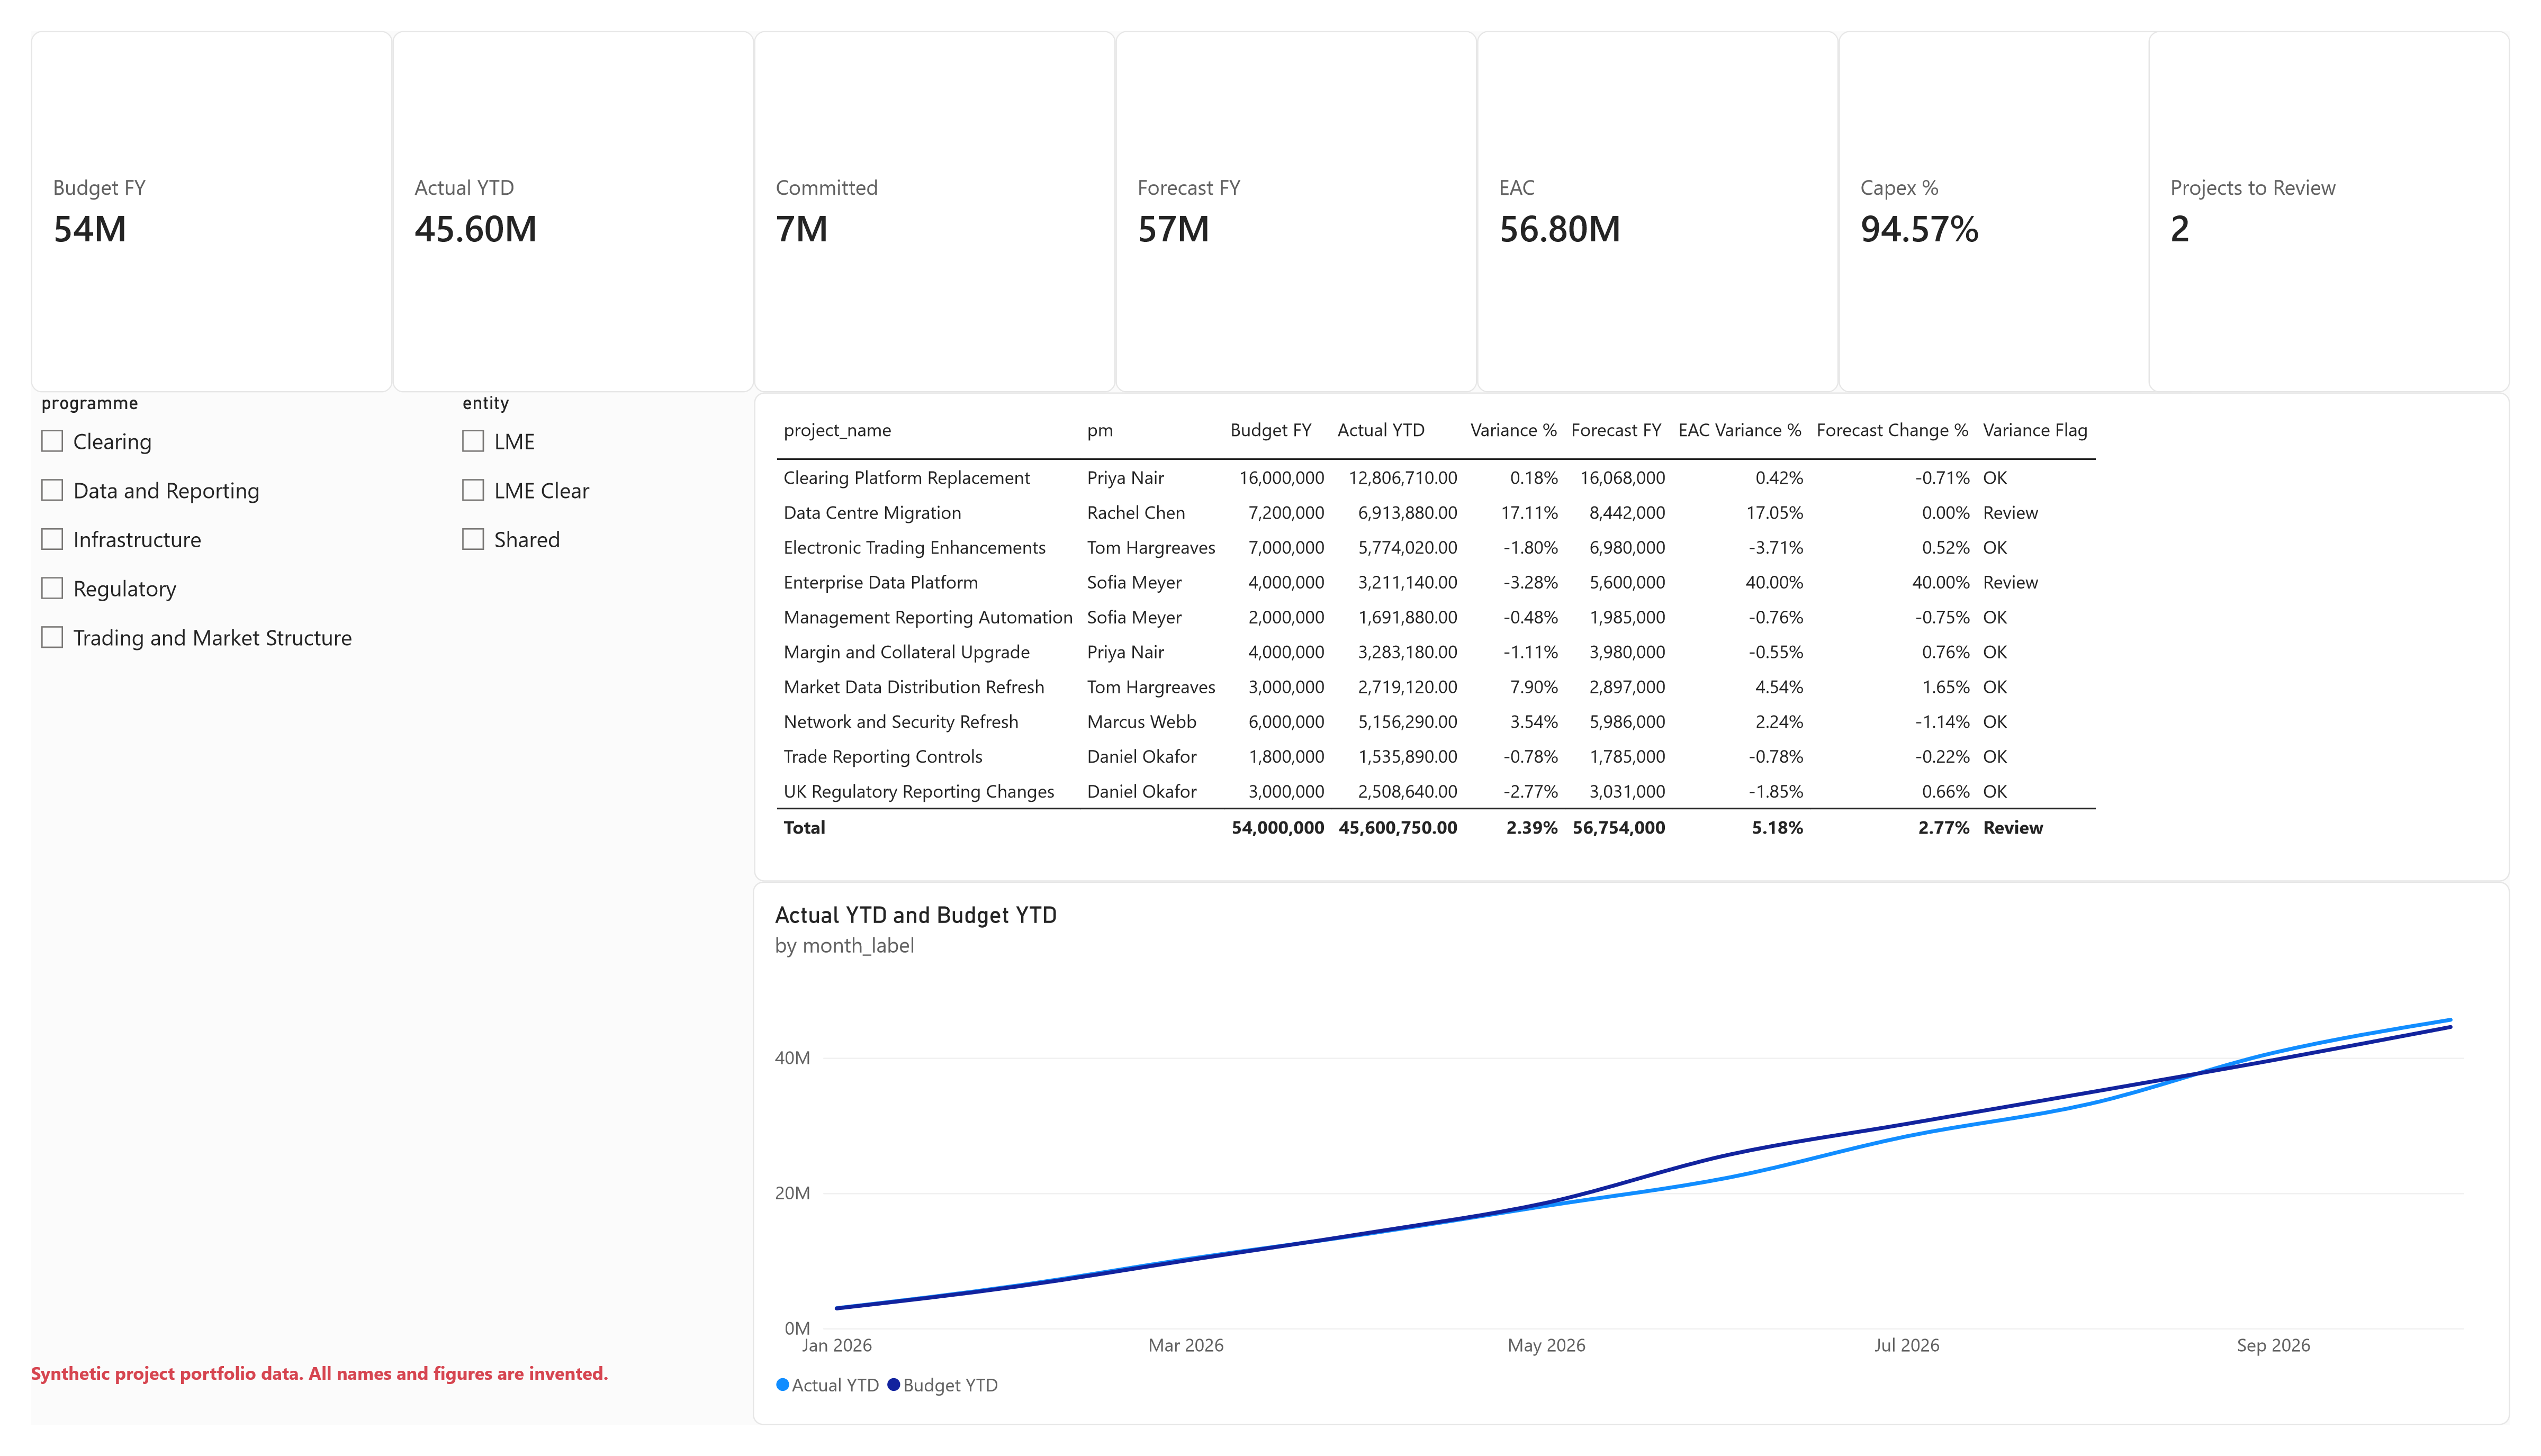

The page's visual inventory and layout, read from the dashboard file:
{"tool":"powerbi","page":{"name":"1 CFO","canvas":[1920,1080],"ordinal":1},"visuals":[{"type":"cardVisual","fields":{"Data":["_Measures.Budget FY"]},"box":[0,0,280,280],"z":0},{"type":"cardVisual","fields":{"Data":["_Measures.Actual YTD"]},"box":[280,0,280,280],"z":1},{"type":"cardVisual","fields":{"Data":["_Measures.Committed"]},"box":[560,0,280,280],"z":2},{"type":"cardVisual","fields":{"Data":["_Measures.Forecast FY"]},"box":[840,0,280,280],"z":3},{"type":"cardVisual","fields":{"Data":["_Measures.EAC"]},"box":[1120,0,280,280],"z":4},{"type":"cardVisual","fields":{"Data":["_Measures.Capex %"]},"box":[1400,0,280,280],"z":5},{"type":"cardVisual","fields":{"Data":["_Measures.Projects to Review"]},"box":[1640,0,280,280],"z":6},{"type":"tableEx","fields":{"Values":["dim_project.project_name","dim_project.pm","_Measures.Budget FY","_Measures.Actual YTD","_Measures.Variance %","_Measures.Forecast FY","_Measures.EAC Variance %","_Measures.Forecast Change %","_Measures.Variance Flag"]},"box":[0,280,1077.5,378.8],"z":7},{"type":"lineChart","fields":{"Category":["dim_date.month_label"],"Y":["_Measures.Actual YTD","_Measures.Budget YTD"]},"box":[0,658.5,1077.5,421.2],"z":8},{"type":"slicer","fields":{"Values":["dim_project.programme"]},"box":[1120,290,280,379],"z":9},{"type":"slicer","fields":{"Values":["dim_project.entity"]},"box":[1423.8,280,280,379],"z":10},{"type":"textbox","box":[1119.9,1043.5,597.7,36.8],"z":11}]}

Visuals, with their boxes in screenshot pixels (x1, y1, x2, y2), scaled from the page's 1920x1080 canvas onto the 2541x1456 screenshot:
cardVisual - _Measures.Budget FY: bbox=[0, 0, 371, 377]
cardVisual - _Measures.Actual YTD: bbox=[371, 0, 741, 377]
cardVisual - _Measures.Committed: bbox=[741, 0, 1112, 377]
cardVisual - _Measures.Forecast FY: bbox=[1112, 0, 1482, 377]
cardVisual - _Measures.EAC: bbox=[1482, 0, 1853, 377]
cardVisual - _Measures.Capex %: bbox=[1853, 0, 2223, 377]
cardVisual - _Measures.Projects to Review: bbox=[2170, 0, 2540, 377]
tableEx - dim_project.project_name x dim_project.pm: bbox=[0, 377, 1426, 888]
lineChart - dim_date.month_label x _Measures.Actual YTD: bbox=[0, 888, 1426, 1455]
slicer - dim_project.programme: bbox=[1482, 391, 1853, 902]
slicer - dim_project.entity: bbox=[1885, 377, 2255, 889]
textbox: bbox=[1482, 1407, 2273, 1455]
